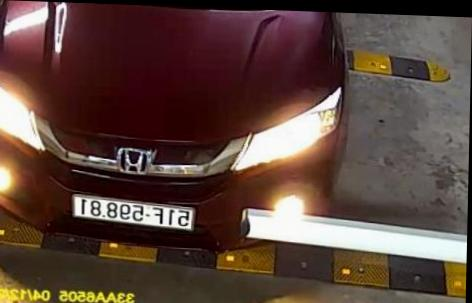License_Plate: (69, 190, 200, 231)
